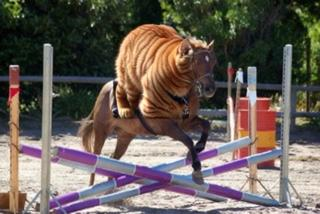cat: (113, 23, 188, 118)
horse: (85, 35, 224, 189)
